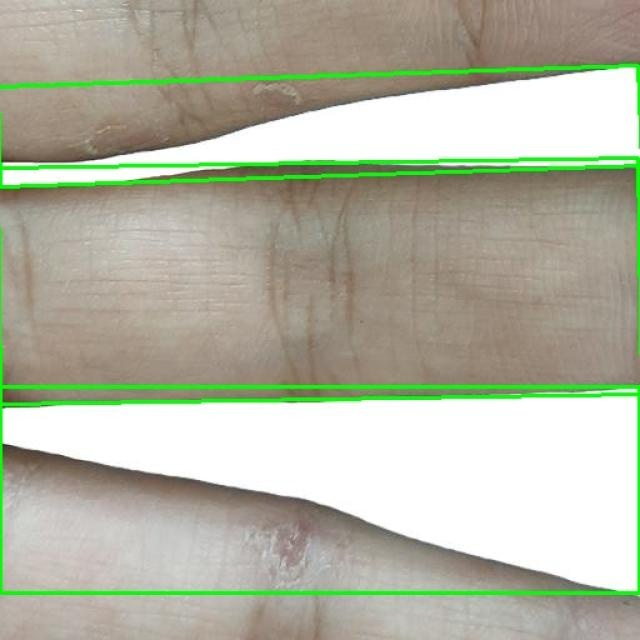Atopic Dermatitis: (0, 159, 640, 405), (0, 388, 639, 594), (0, 66, 640, 187)
